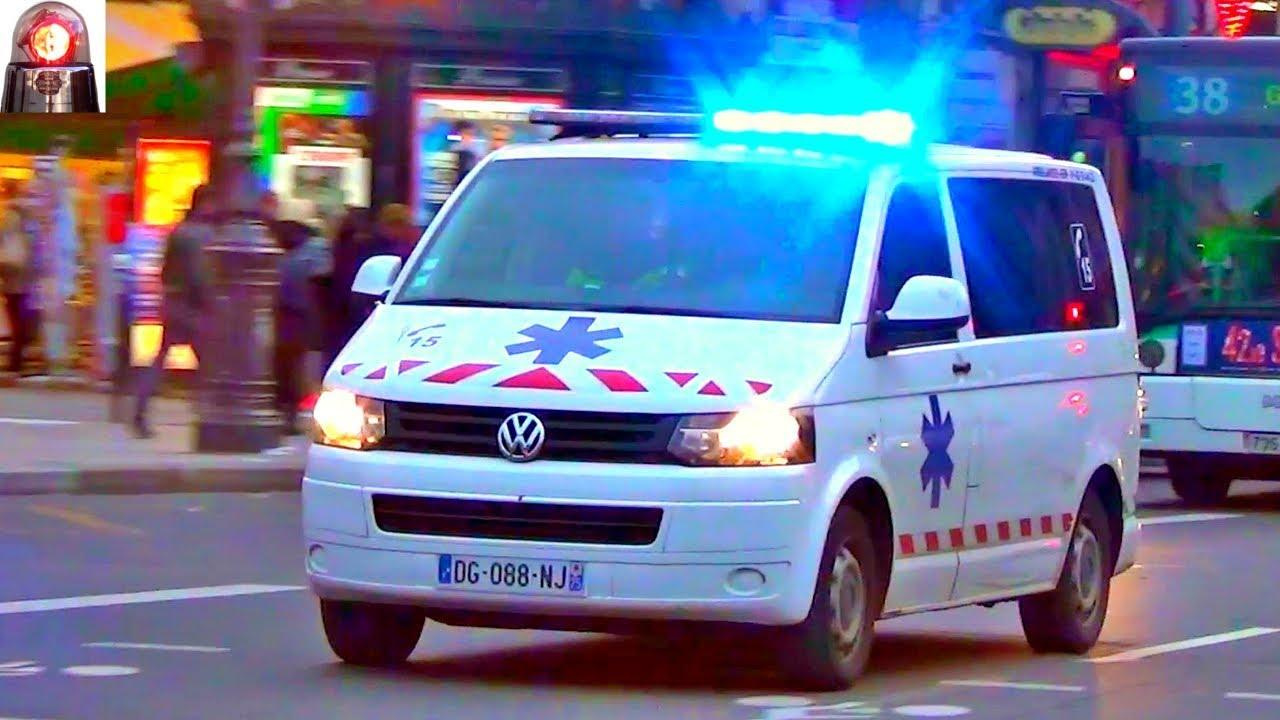ambulance_on: (305, 103, 1155, 682)
